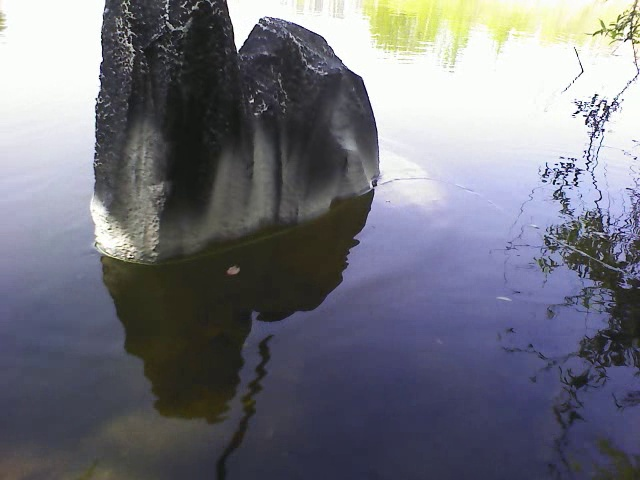rock: (83, 1, 382, 266)
